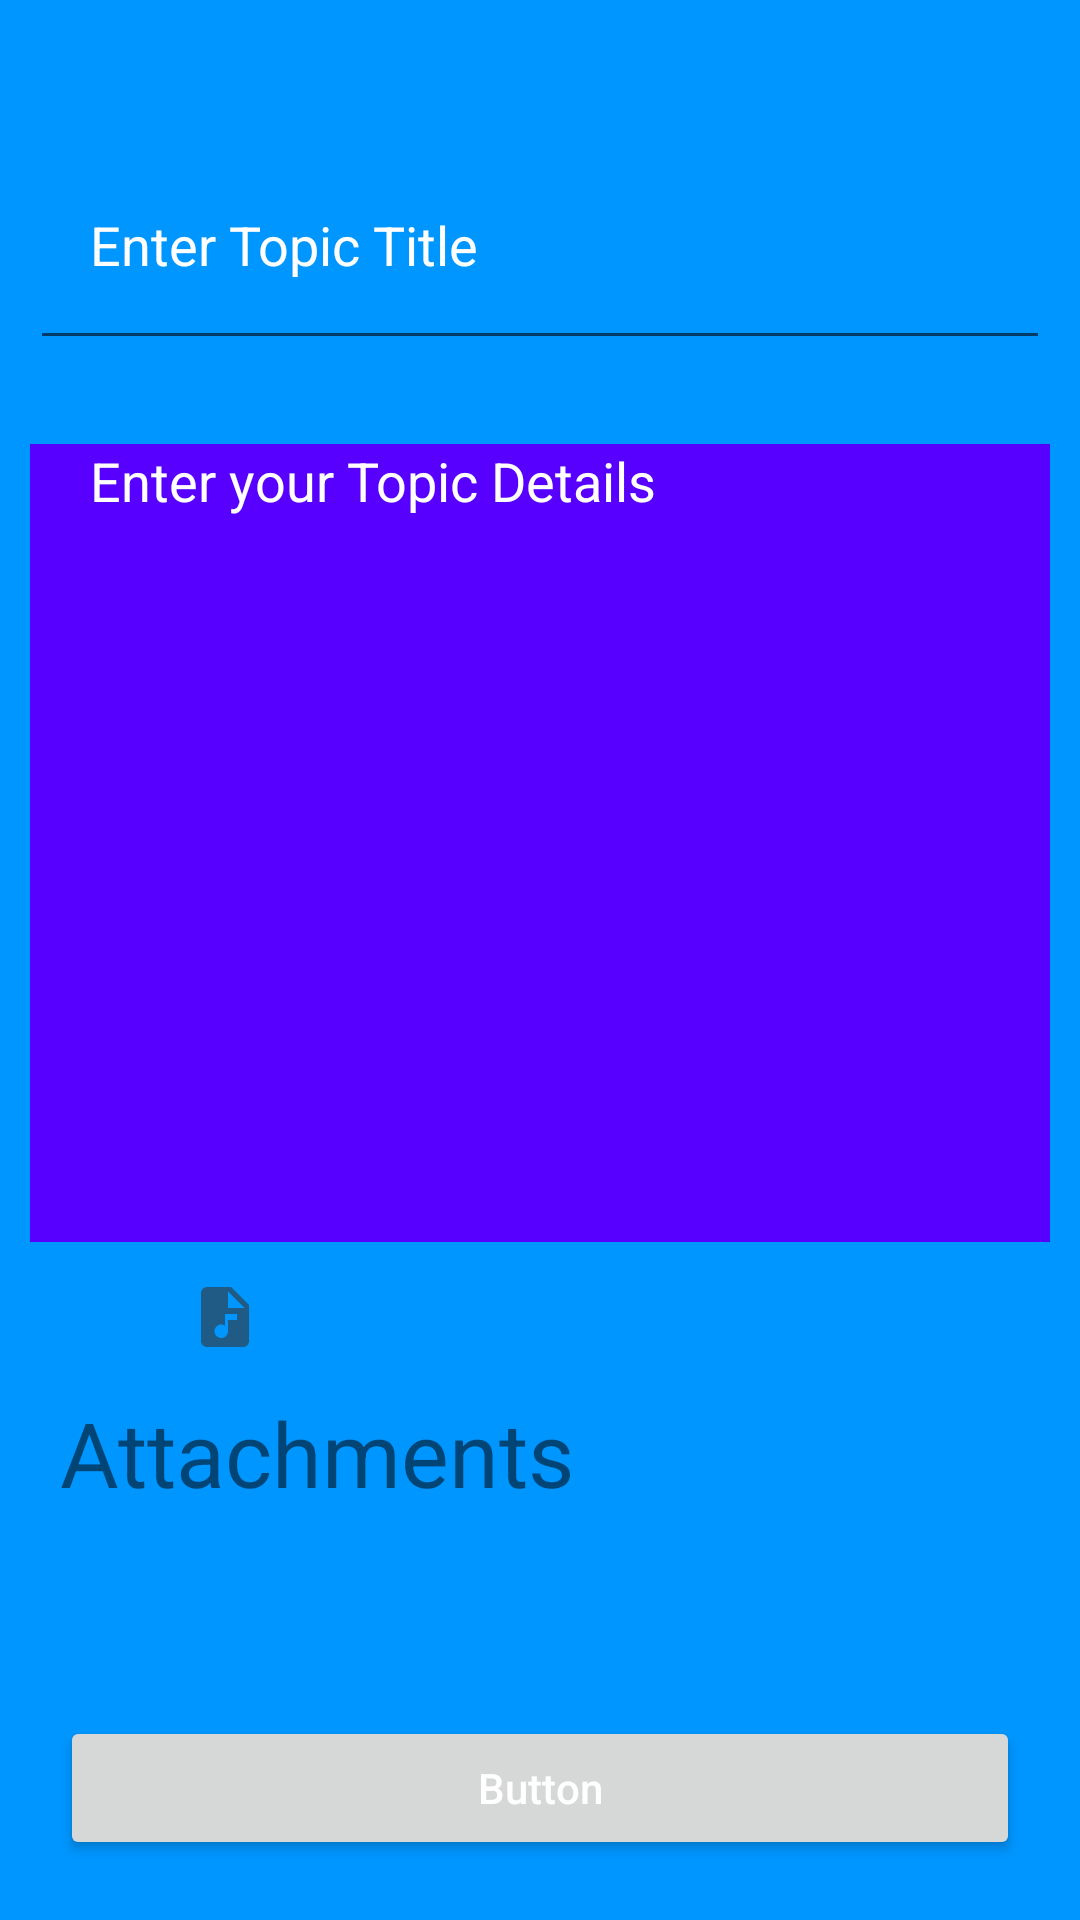

Locate icon controls on the screen. Image size 1080x1920, boxes as (x1,y1,x2,y2).
audio: (201,1287,249,1347)
